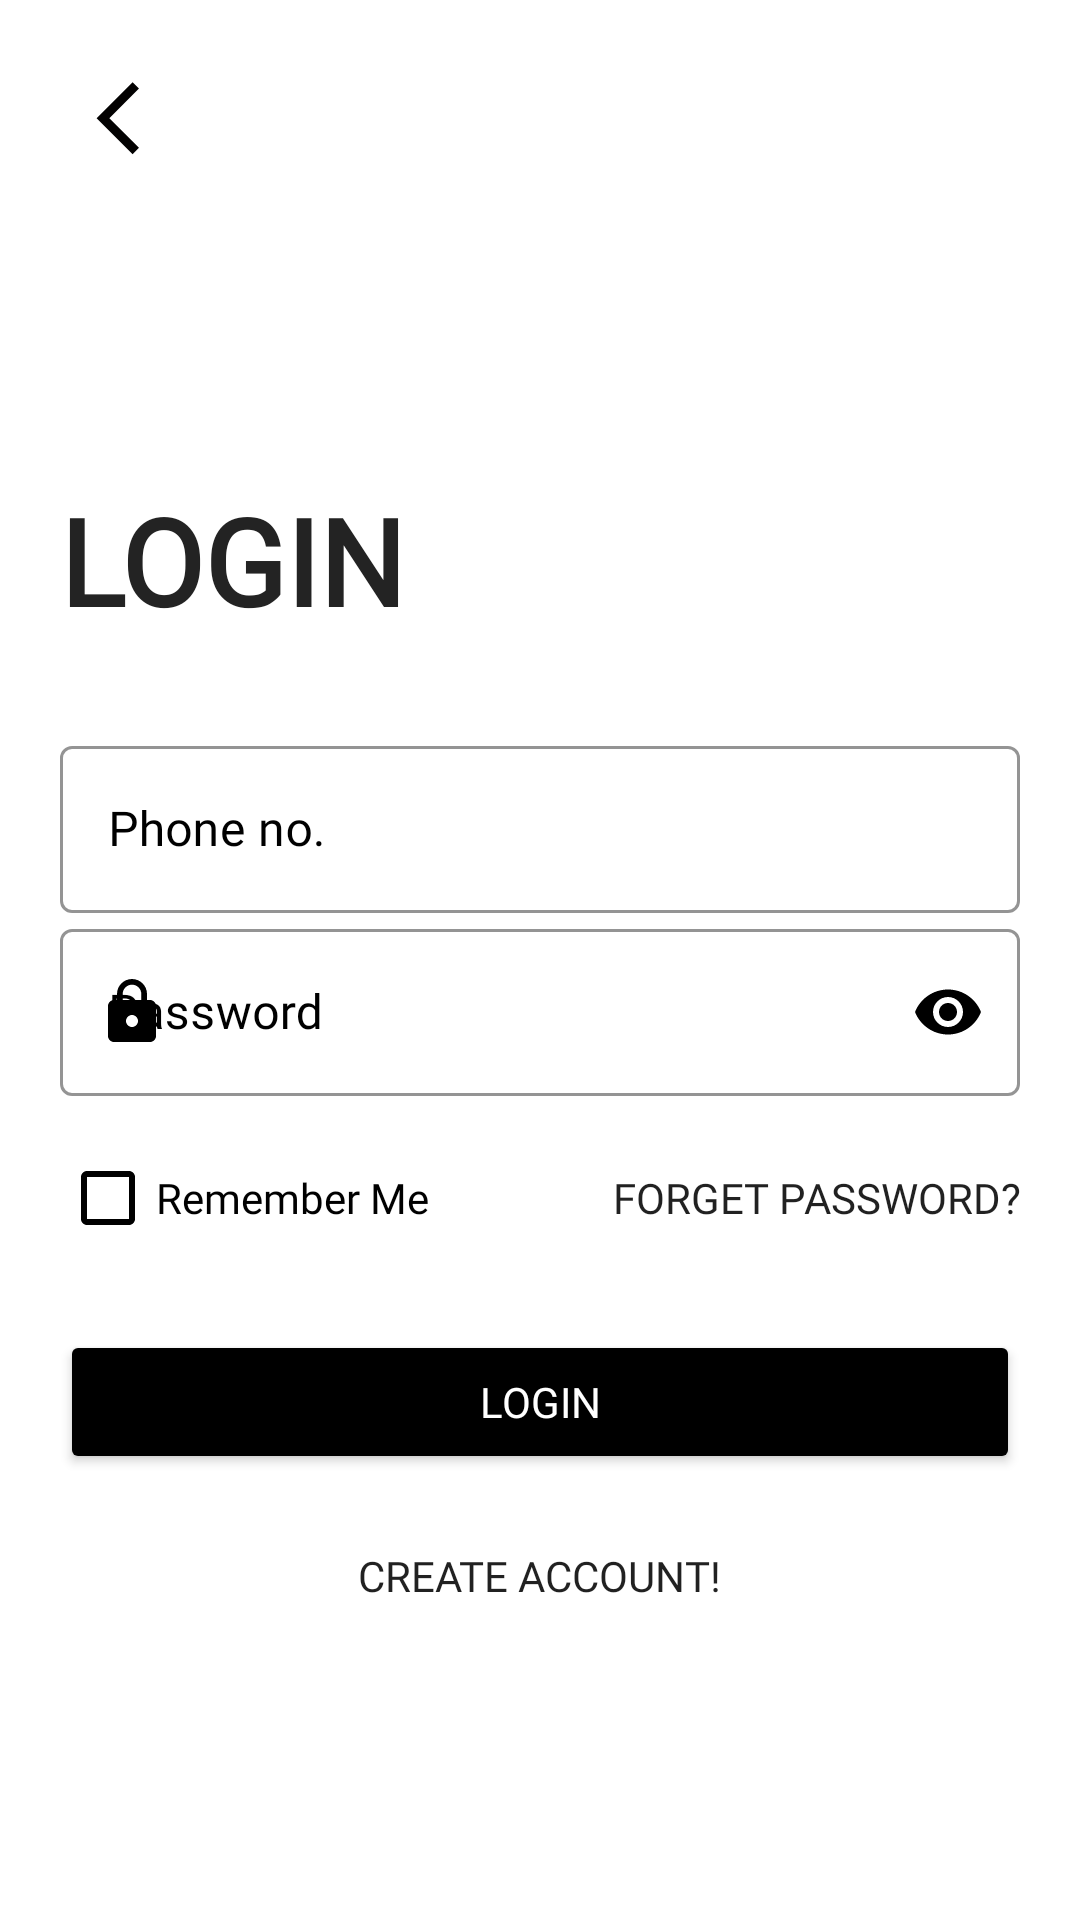

Point at icon controls on the screen. Image size 1080*1920, points as [x,y].
arrow back: [117,118]
